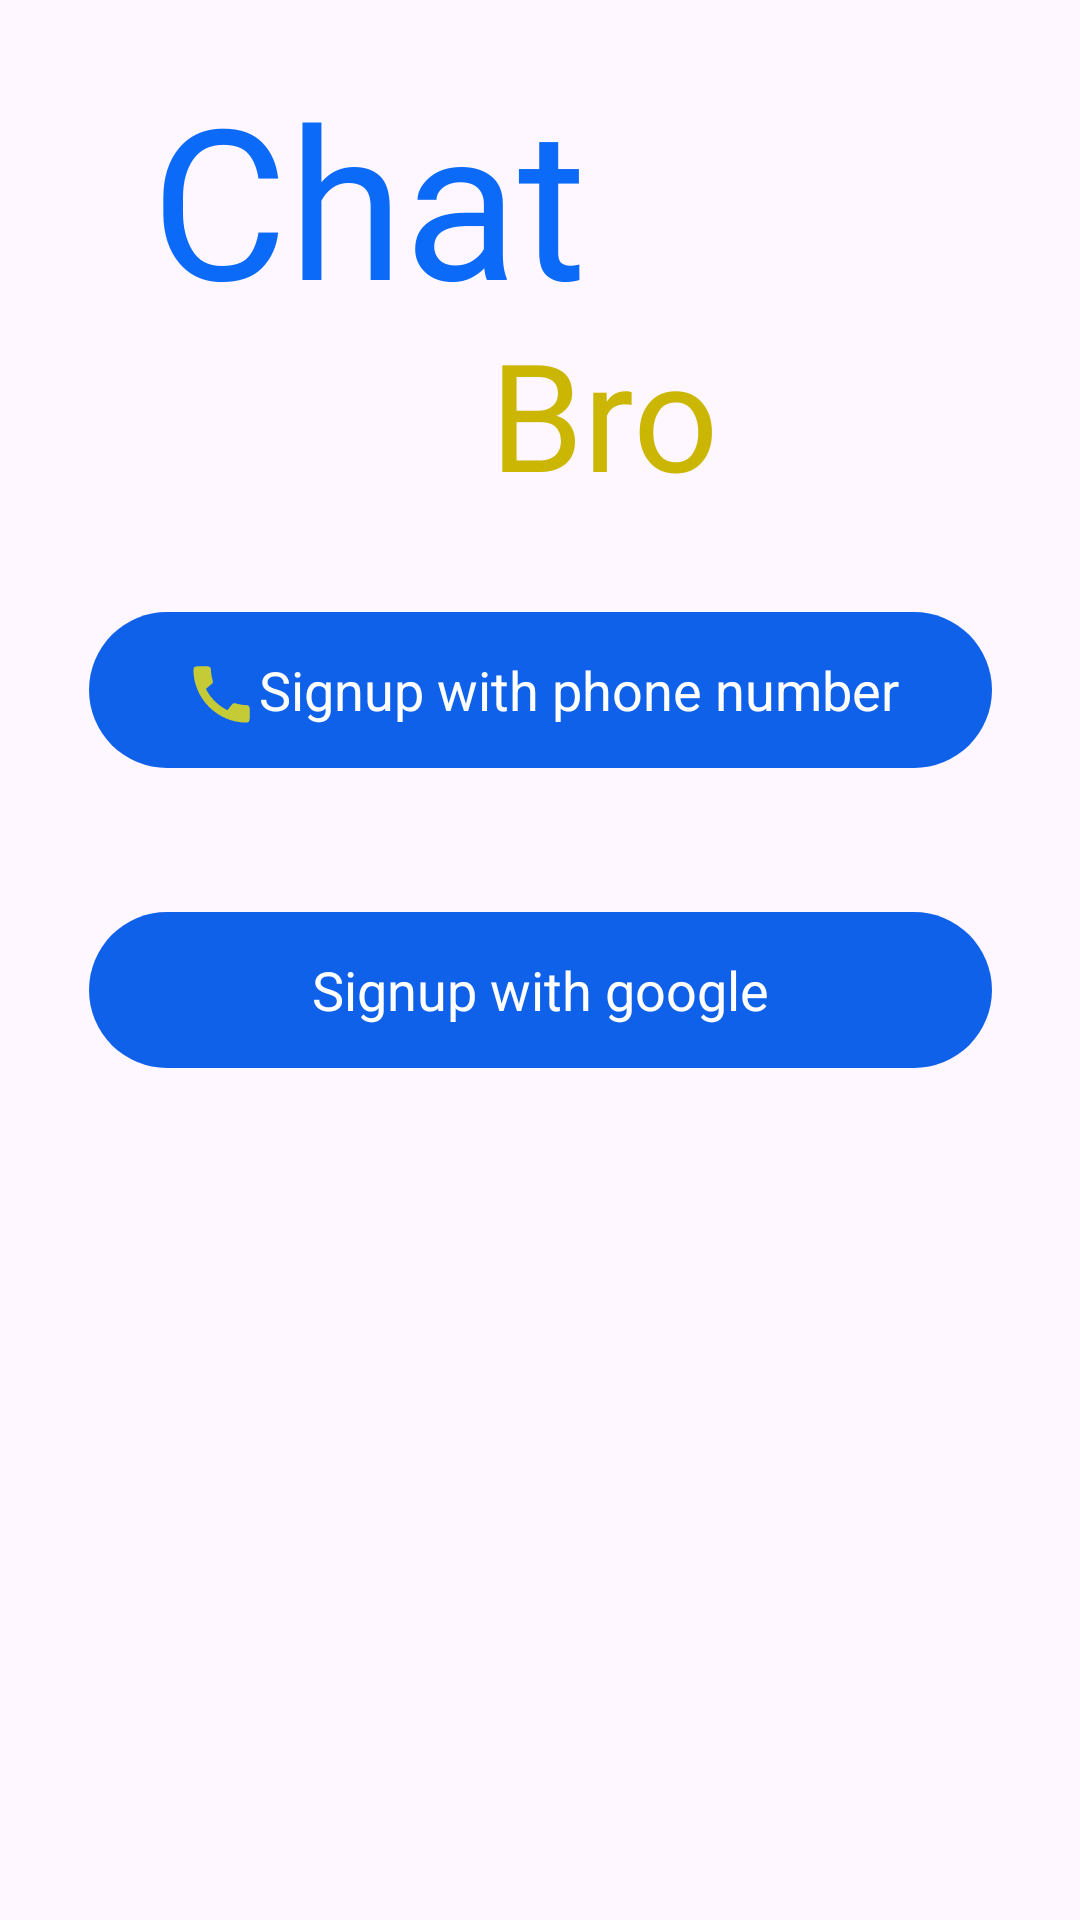

Screen size 1080×1920. Icon name, then its box in pixels as Rect(x1, y1, x2, y2):
phonee: Rect(193, 666, 250, 723)
